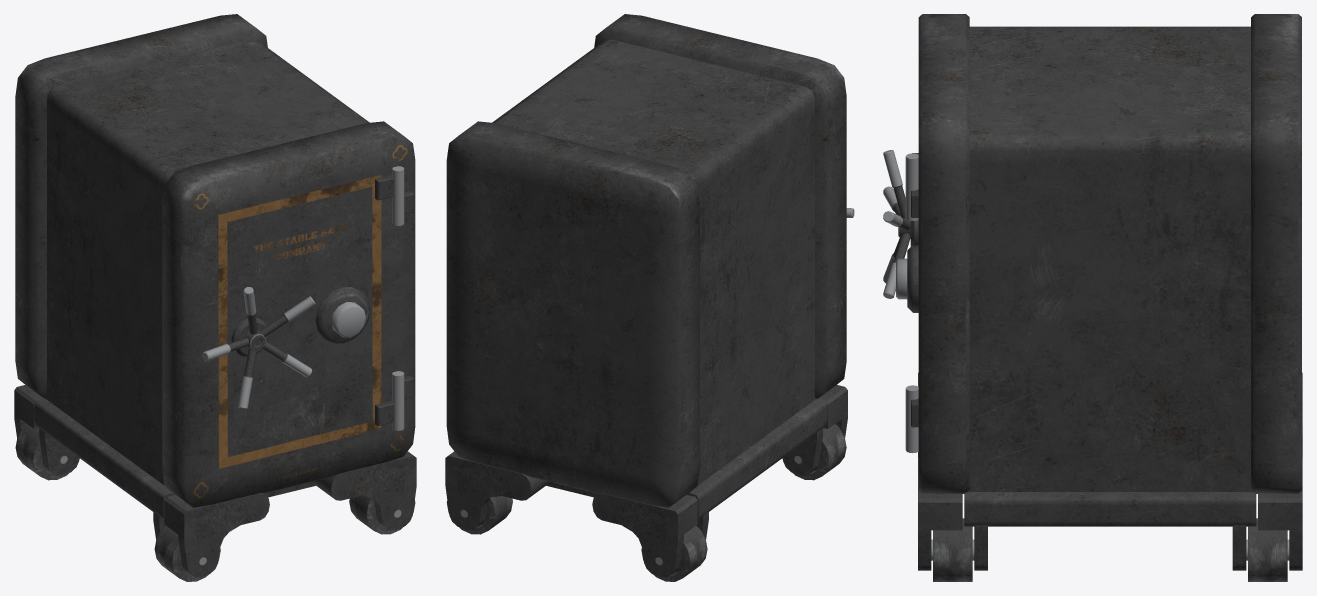
File: Safe.fbx
The picture shows the model from 3 angles, left to right: view 1: azimuth 30°, elevation 25°; view 2: azimuth 150°, elevation 25°; view 3: azimuth 270°, elevation 25°; orthographic projection. The views are drawn at different scales.
Parts seen in each view (by area): view 1: SafeBody.001, SafeDoor.001; view 2: SafeBody.001, SafeDoor.001; view 3: SafeBody.001, SafeDoor.001.
Part boxes in pixels (x1,y1,x2,y2): SafeBody.001: [14, 14, 416, 581]; SafeDoor.001: [162, 121, 415, 507]; SafeBody.001: [445, 39, 847, 581]; SafeDoor.001: [594, 14, 854, 398]; SafeBody.001: [918, 14, 1302, 581]; SafeDoor.001: [883, 14, 969, 493].
Bounding box in the file's own units: 62.19 × 98.36 × 81.99.
